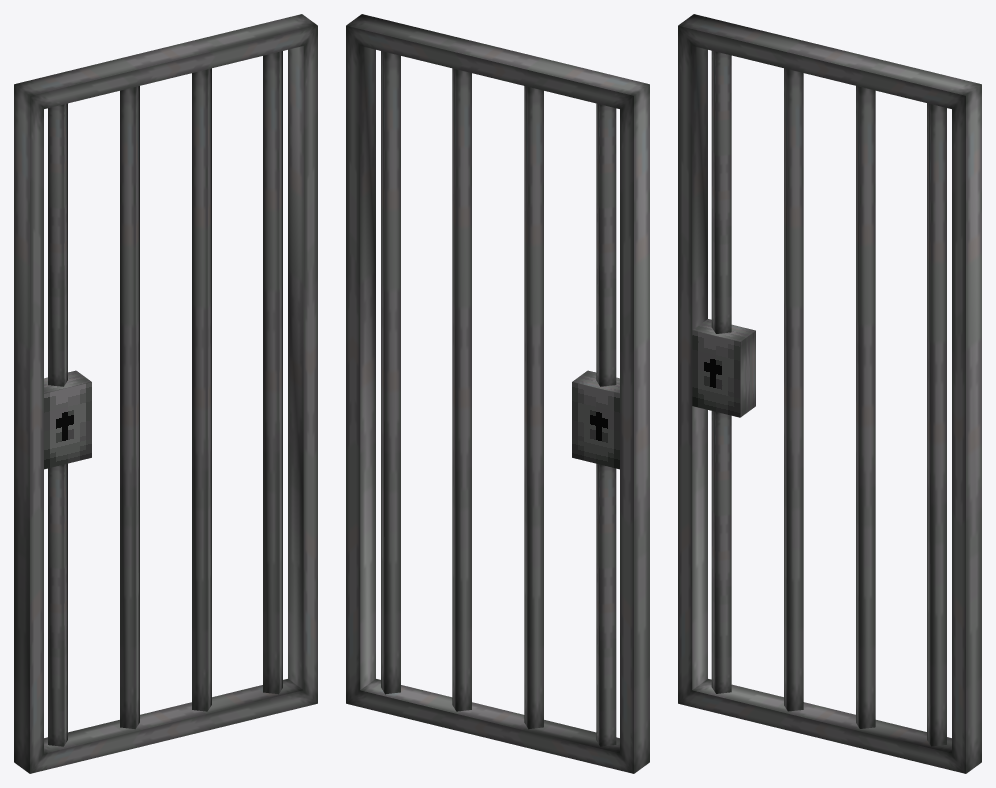
File: DOORCELL_1M_LEFT.glb
The picture shows the model from 3 angles, left to right: view 1: azimuth 30°, elevation 25°; view 2: azimuth 150°, elevation 25°; view 3: azimuth 330°, elevation 25°; orthographic projection.
Visible parts, largest first — view 1: DOORCELL_1M_LEFT; view 2: DOORCELL_1M_LEFT; view 3: DOORCELL_1M_LEFT.
Boxes of the visible parts, box(x1,y1,x2,y2) form: DOORCELL_1M_LEFT: box(14, 14, 317, 773); DOORCELL_1M_LEFT: box(346, 14, 649, 773); DOORCELL_1M_LEFT: box(678, 14, 981, 773).
Size of the model in its own units: 1 by 2.25 by 0.095.
2 materials, 2 textured.
